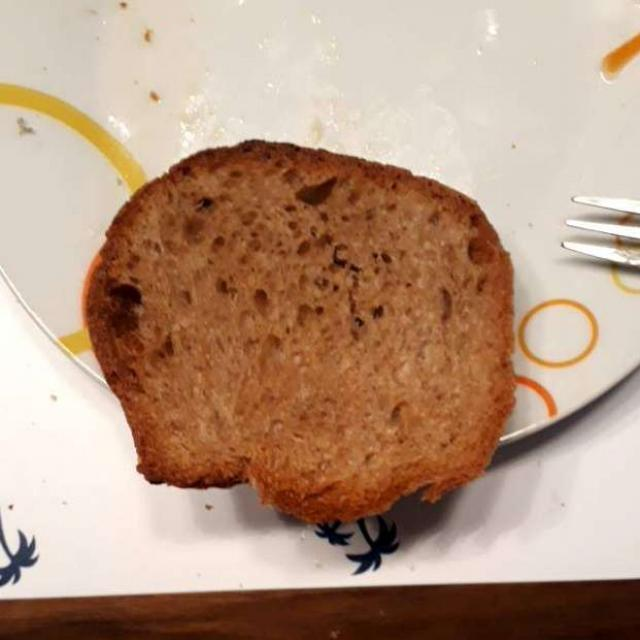bread: (92, 153, 514, 527)
